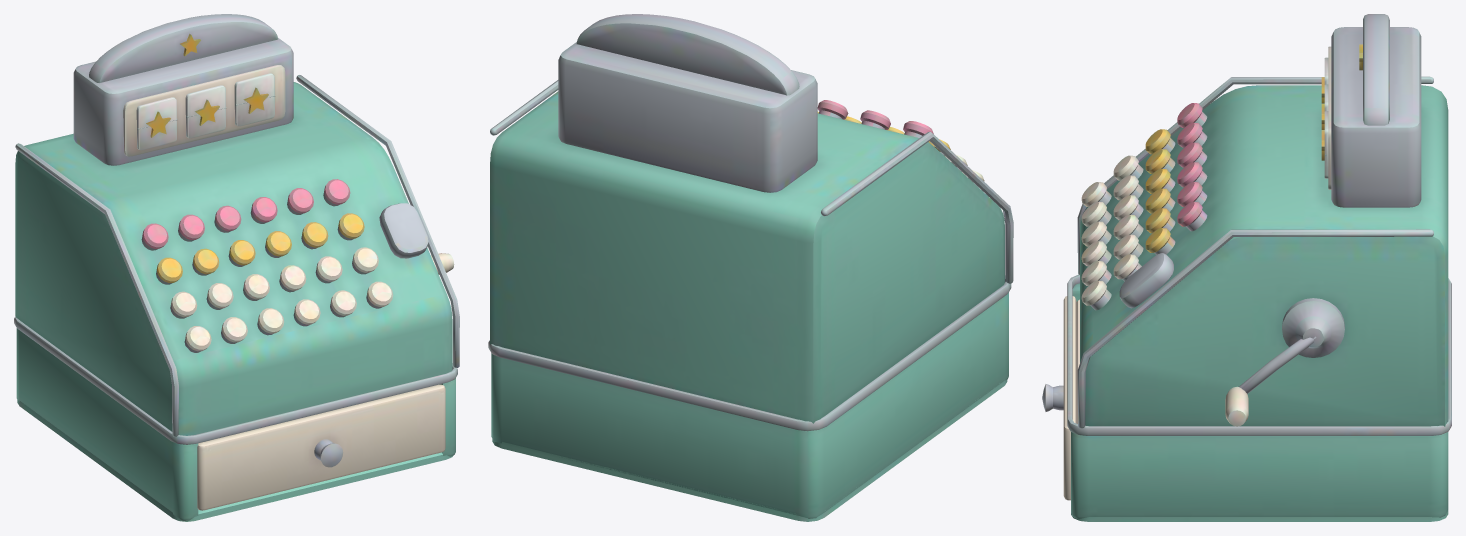
The model's file is cash-register.glb.
3 views of the same model, side by side, from view 1: azimuth 30°, elevation 25°; view 2: azimuth 150°, elevation 25°; view 3: azimuth 270°, elevation 25° (orthographic). The views are drawn at different scales.
Parts seen in each view (by area): view 1: cash-register_body, cash-register_drawer; view 2: cash-register_body; view 3: cash-register_body, cash-register_drawer.
Boxes of the visible parts, <box> form: cash-register_body: <box>14,14,459,521</box>; cash-register_drawer: <box>197,384,445,510</box>; cash-register_body: <box>488,14,1013,521</box>; cash-register_body: <box>1067,14,1451,521</box>; cash-register_drawer: <box>1042,296,1079,500</box>.
Bounding box in the file's own units: 0.4995 × 0.502 × 0.456.
Materials: 2 (2 with a texture image).
